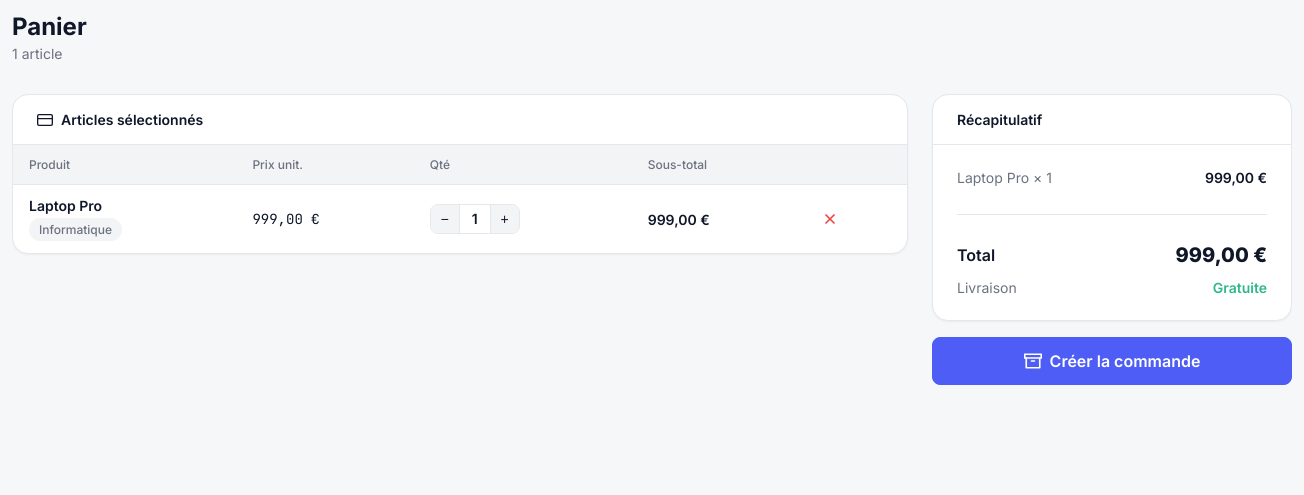
Test case: CartPage › shows error when order creation fails
Expected: the text "Laptop Pro" is shown, [29,197,102,214]
Click the button "Créer la commande" at (1112,361), box [932,337,1292,385]
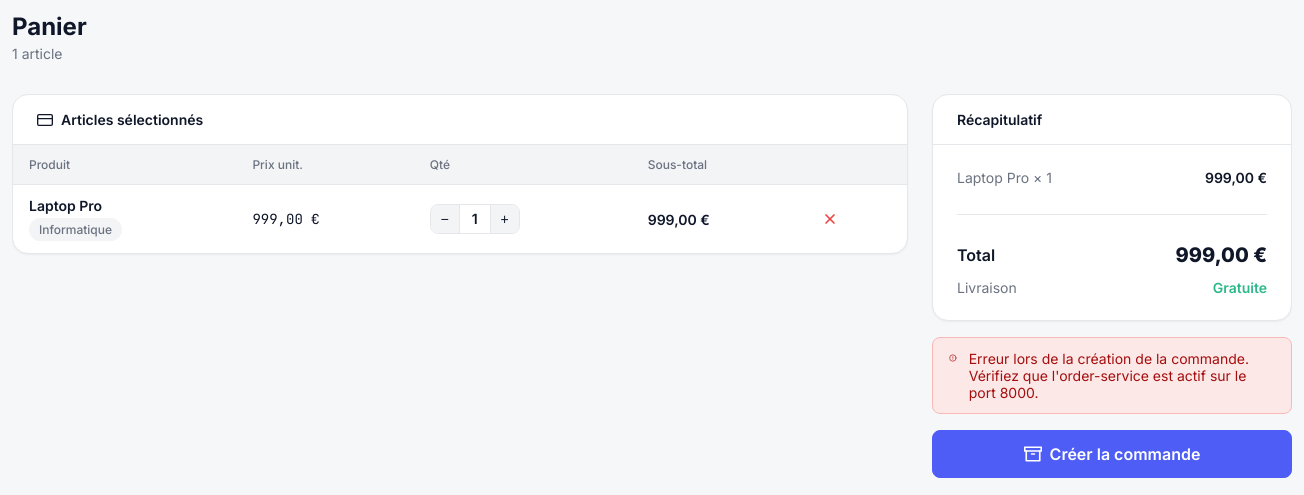
Result: the text "Erreur lors de la création de la commande" is shown at [969,350,1249,401]
